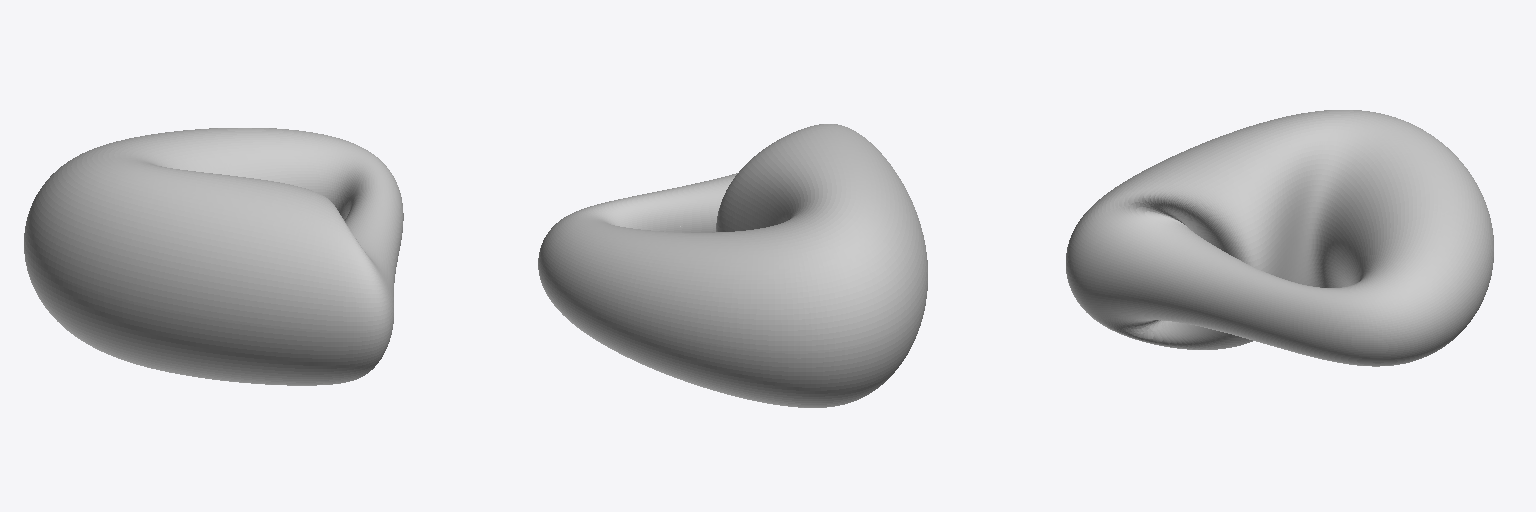
The model's file is klein.obj.
The picture shows the model from 3 angles: view 1: azimuth 30°, elevation 25°; view 2: azimuth 150°, elevation 25°; view 3: azimuth 270°, elevation 25°; orthographic projection.
Visible parts, largest first — view 1: XYZ_Function.005; view 2: XYZ_Function.005; view 3: XYZ_Function.005.
Part boxes in pixels (x1,y1,x2,y2): XYZ_Function.005: (24, 128, 403, 385); XYZ_Function.005: (538, 124, 927, 407); XYZ_Function.005: (1066, 110, 1493, 366).
Size of the model in its own units: 11.43 by 6 by 12.16.